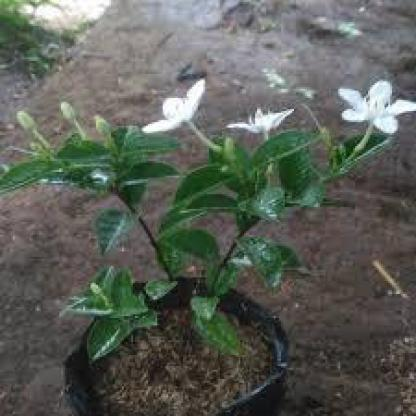Melati: (314, 64, 415, 151), (130, 75, 208, 134), (225, 95, 293, 138)
